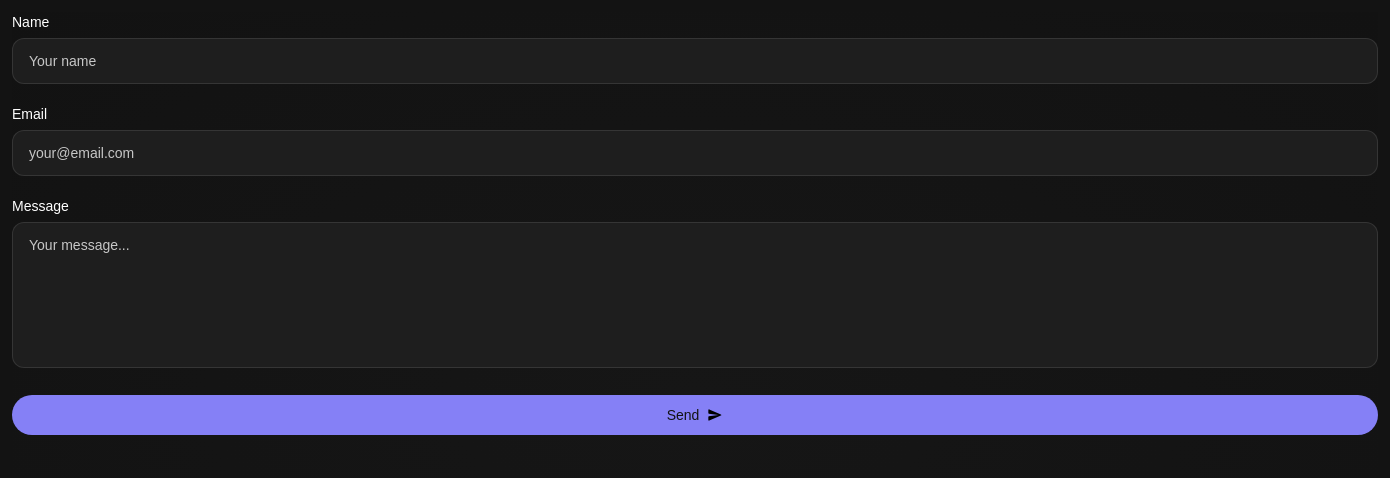
Scenario: ContactForm in en › reports a message shorter than ten characters in the current language
In the field labelled "Name": (695, 61) [12,38,1378,84], type "Alex Martin"
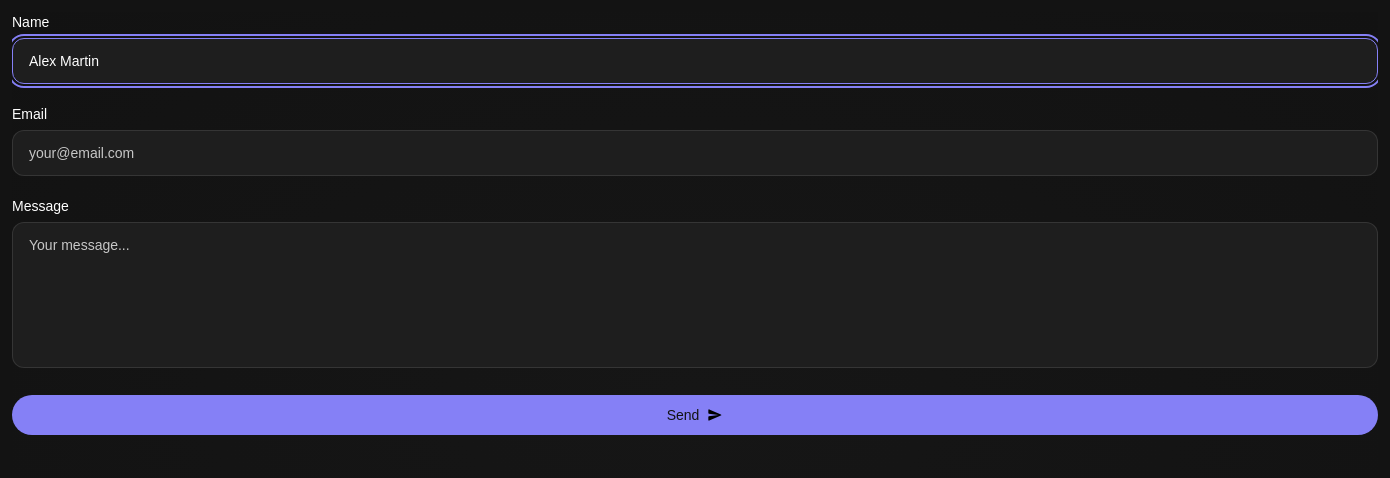
In the field labelled "Email": (695, 153) [12,130,1378,176], type "alex@example.com"
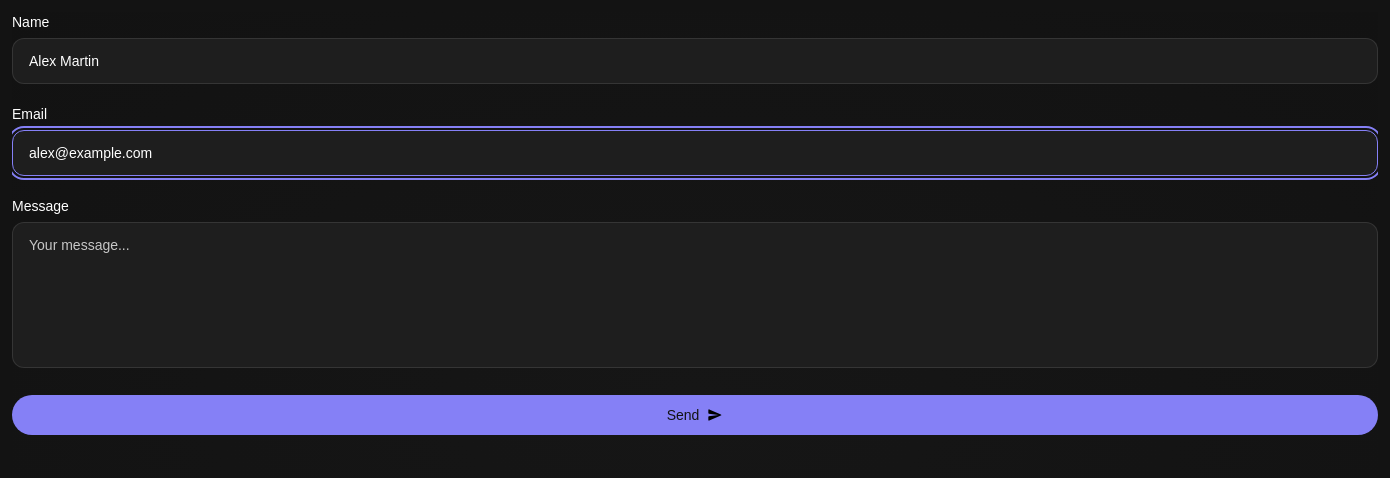
In the text box labelled "Message": (695, 295) [12,222,1378,368], type "court"
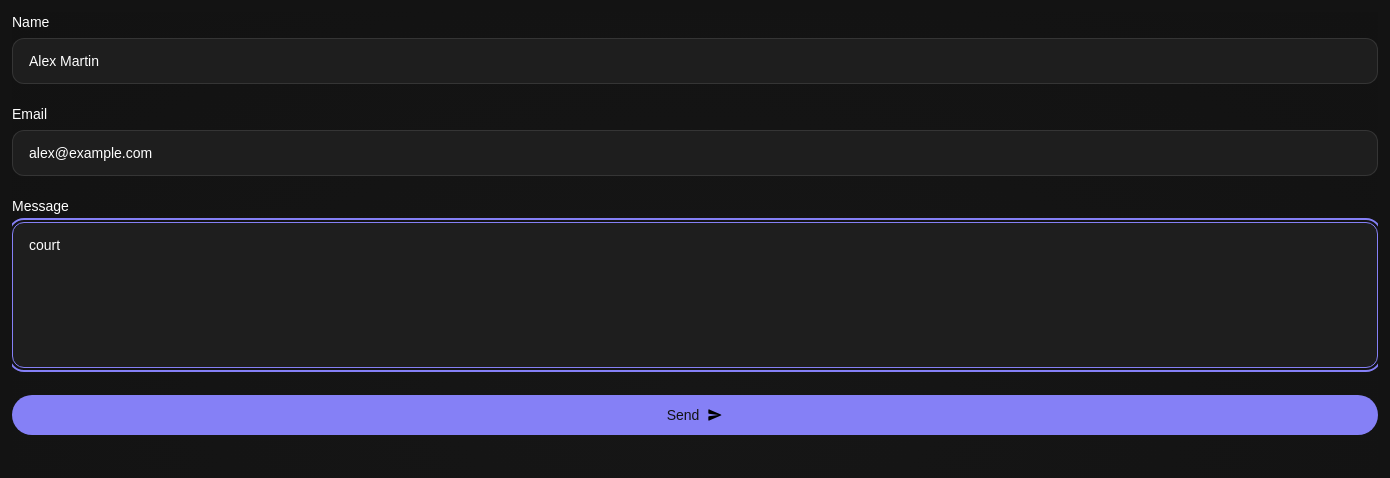
Click the button "Send": click(695, 415) [12,395,1378,435]
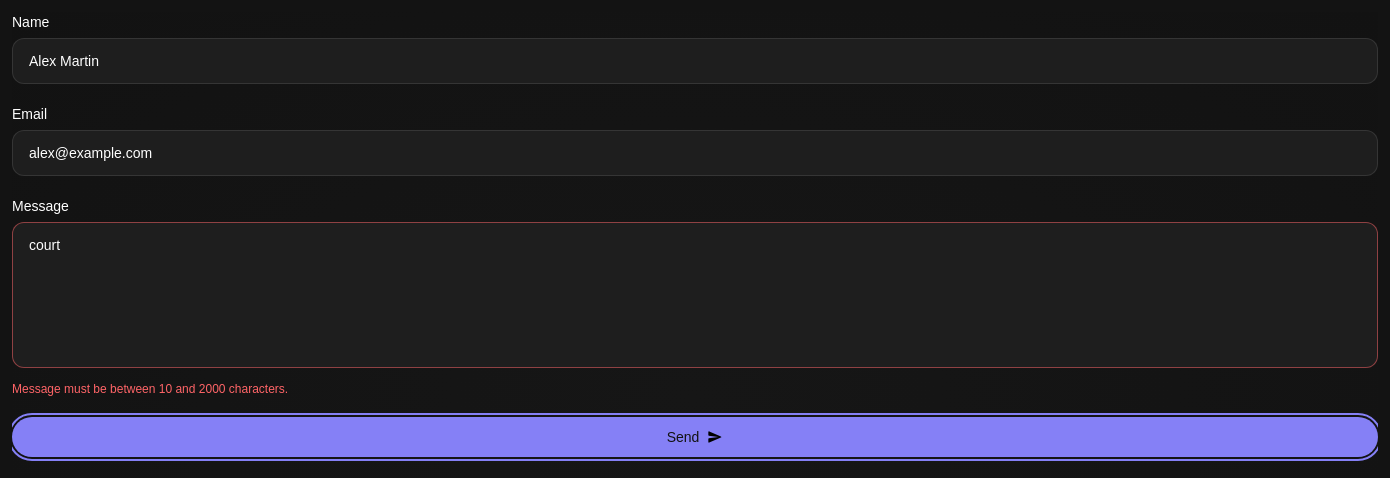
expect the text "Message must be between 10 and 2000 characters." is shown: met, box [12,382,288,396]
